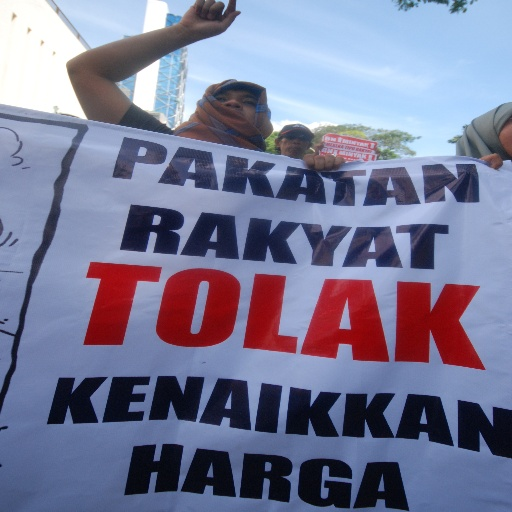hand: (180, 0, 240, 36), (299, 152, 346, 176), (477, 152, 504, 171)
